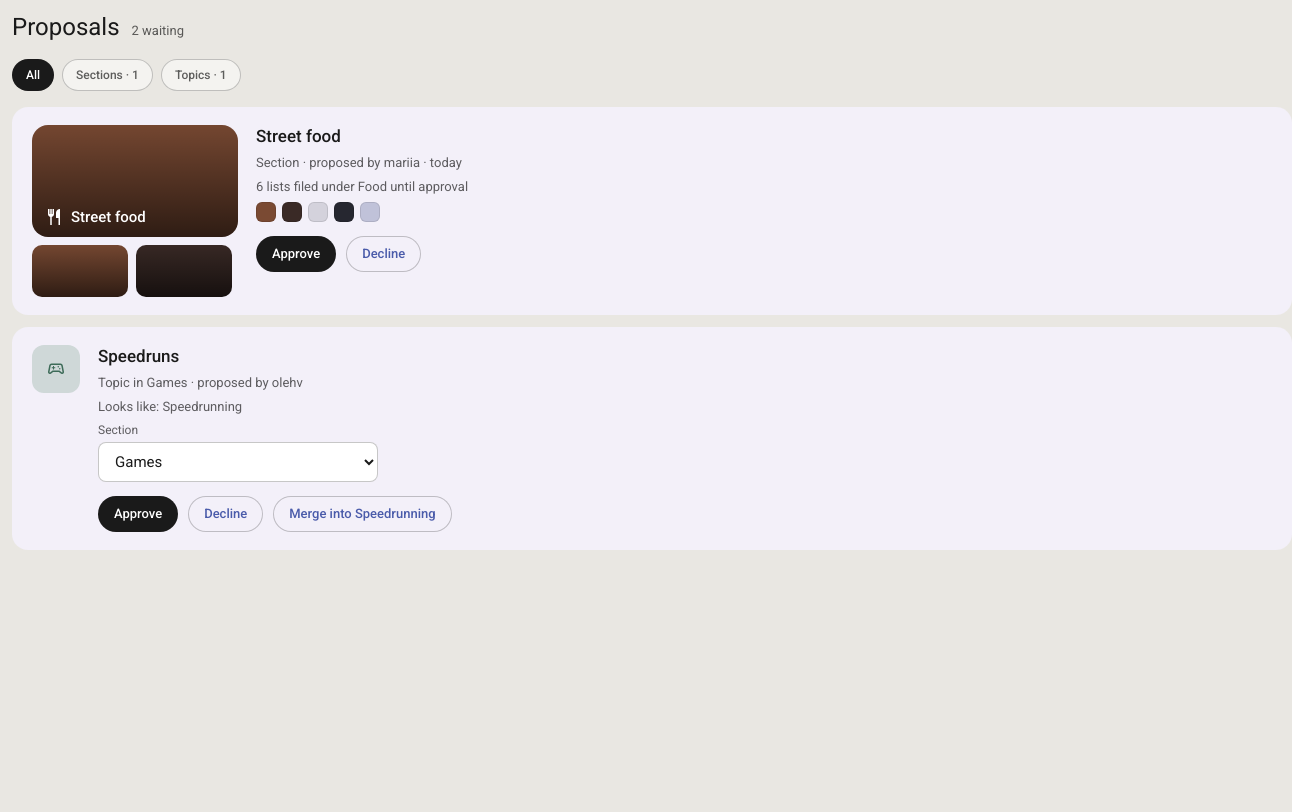
ProposalsPane › opens Approve as a panel, and approves as a section, renamed if asked
Click the button "Approve" below "6 lists filed under Food until approval".
click(296, 254)  # box [256,236,336,272]
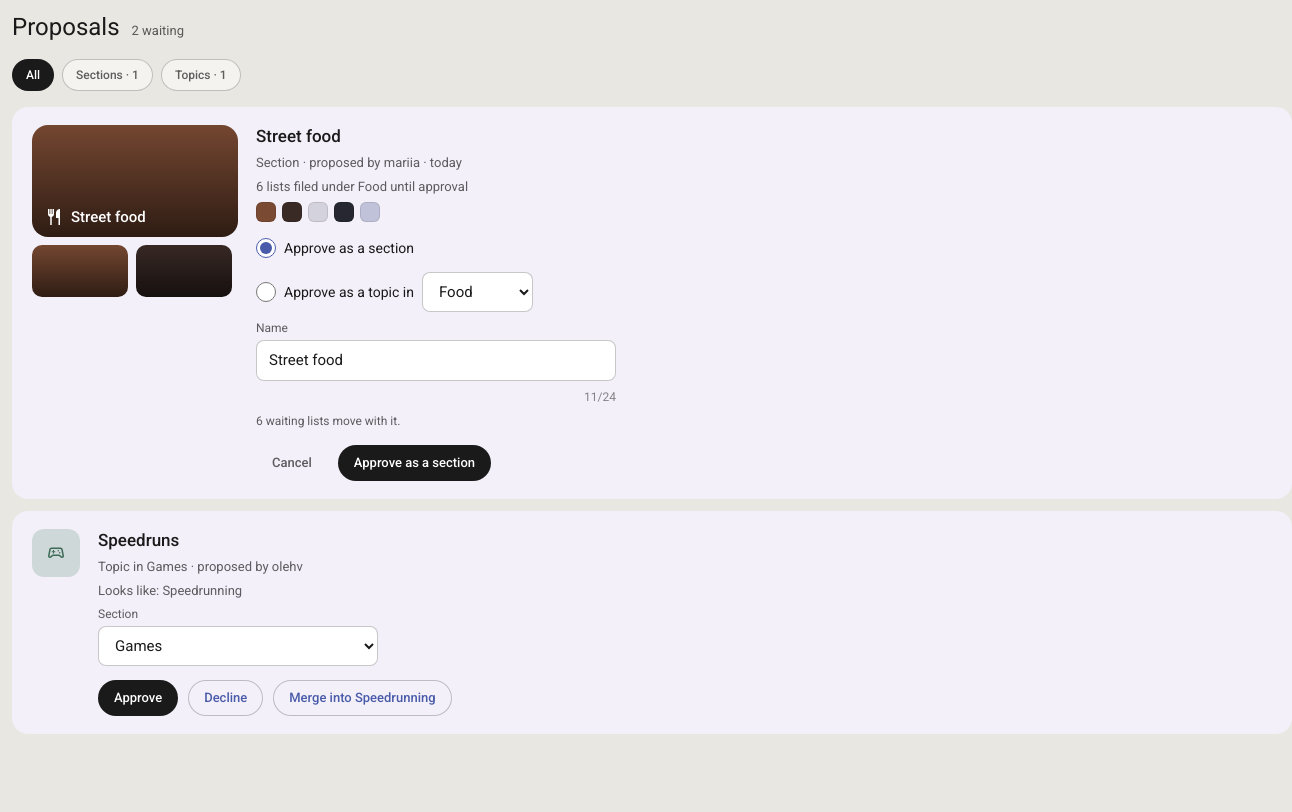
Expected: the radio button labelled "Approve as a section" is checked, [256,238,276,258]
Expected: the text "6 waiting lists move with it." is shown, [256,414,400,428]
Expected: the field labelled "Name" holds "Street food", [256,340,616,380]
Click the button "Cancel".
click(292, 462)  # box [256,444,328,480]
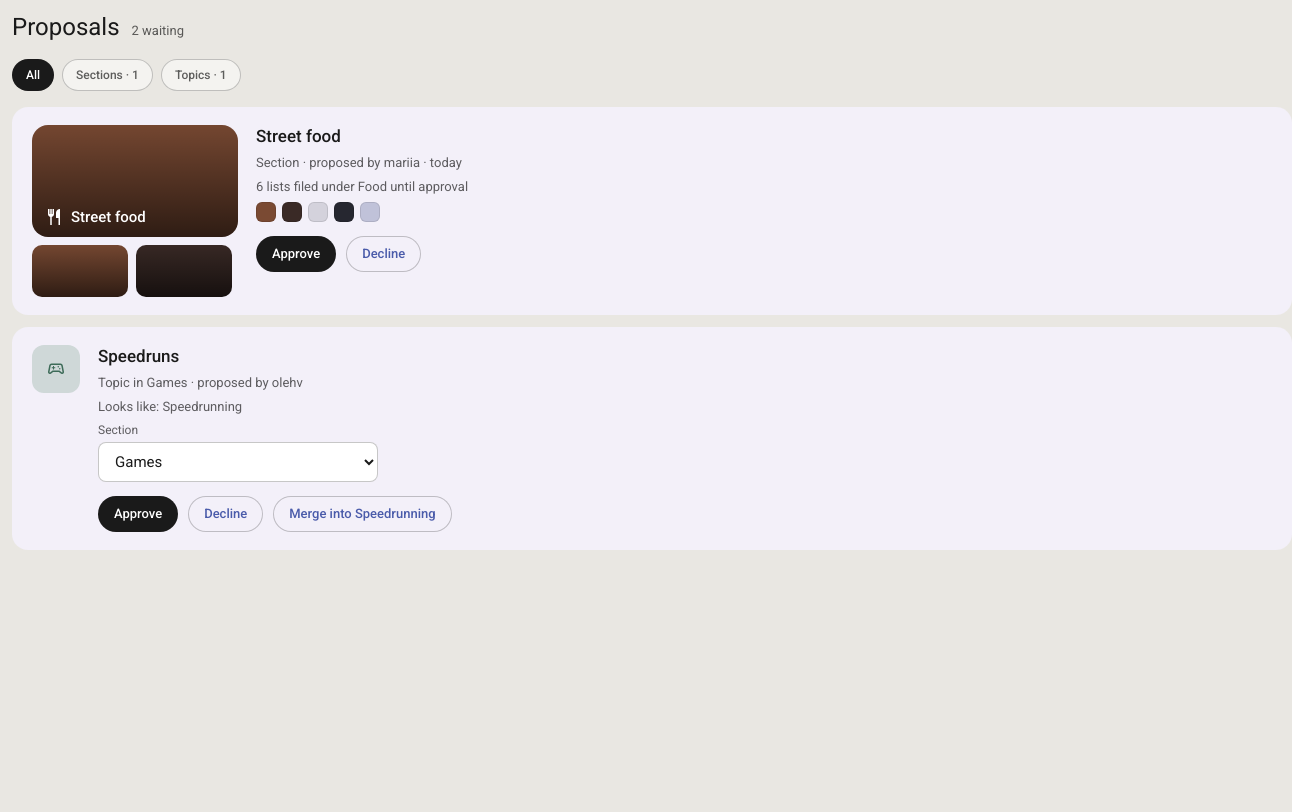
Click the button "Approve" below "6 lists filed under Food until approval".
click(296, 254)  # box [256,236,336,272]
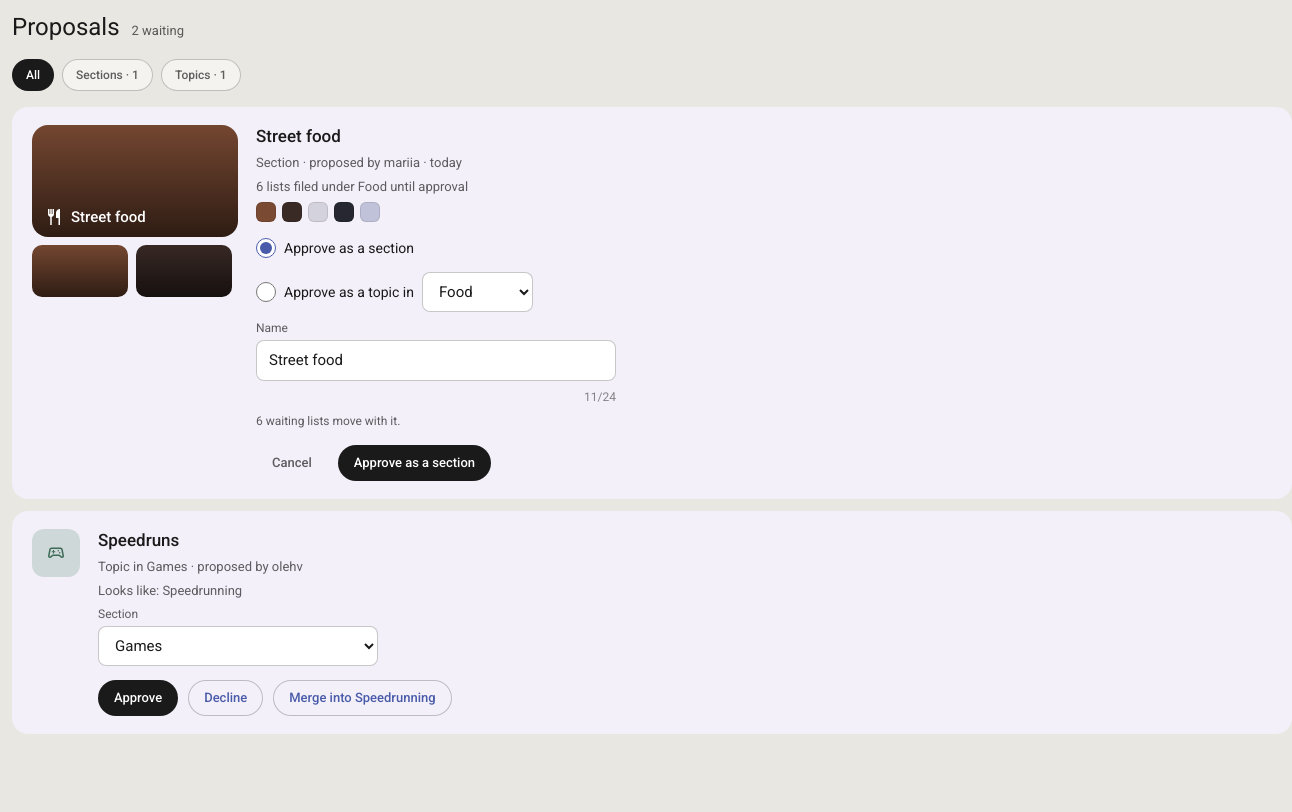
Replace the text in the field labelled "Name" with "Street eats" at (436, 360), box [256,340,616,380]
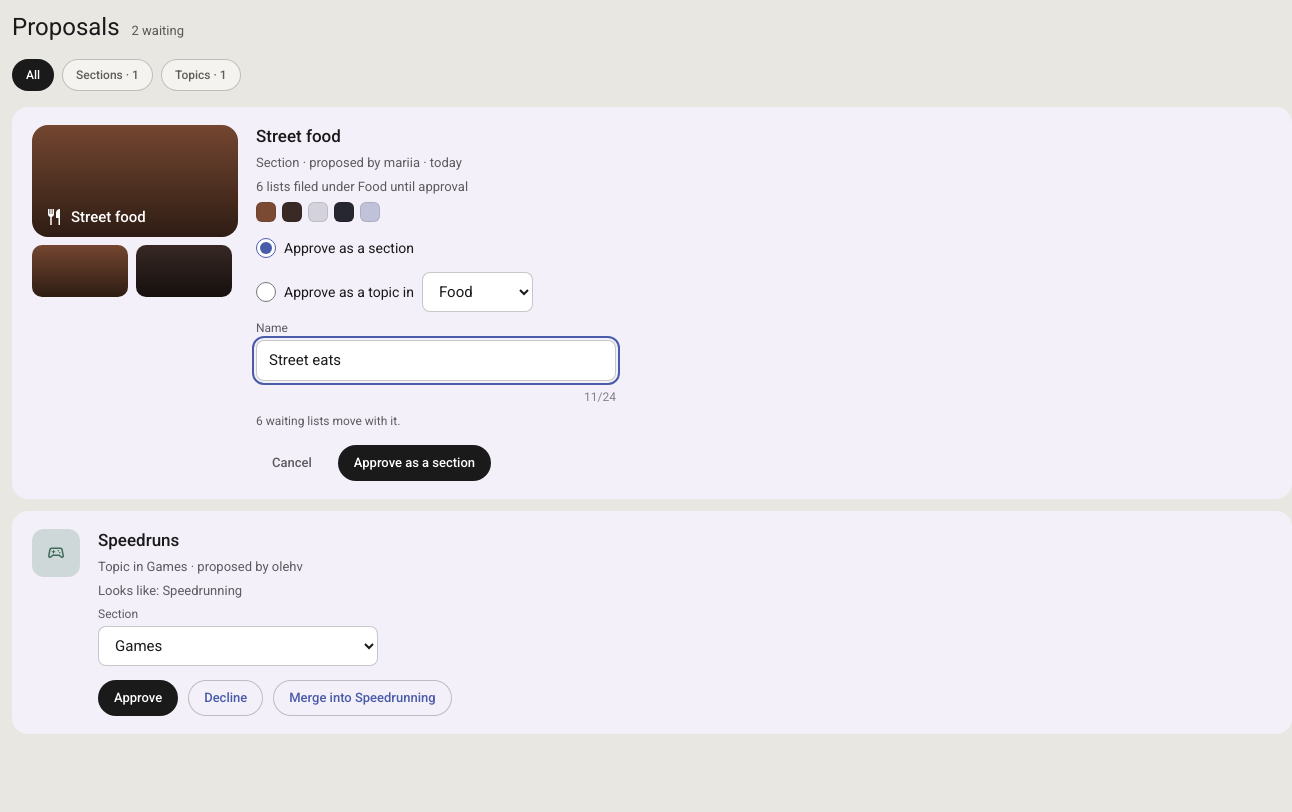
Click the button "Approve as a section".
click(414, 462)  # box [338,444,491,480]
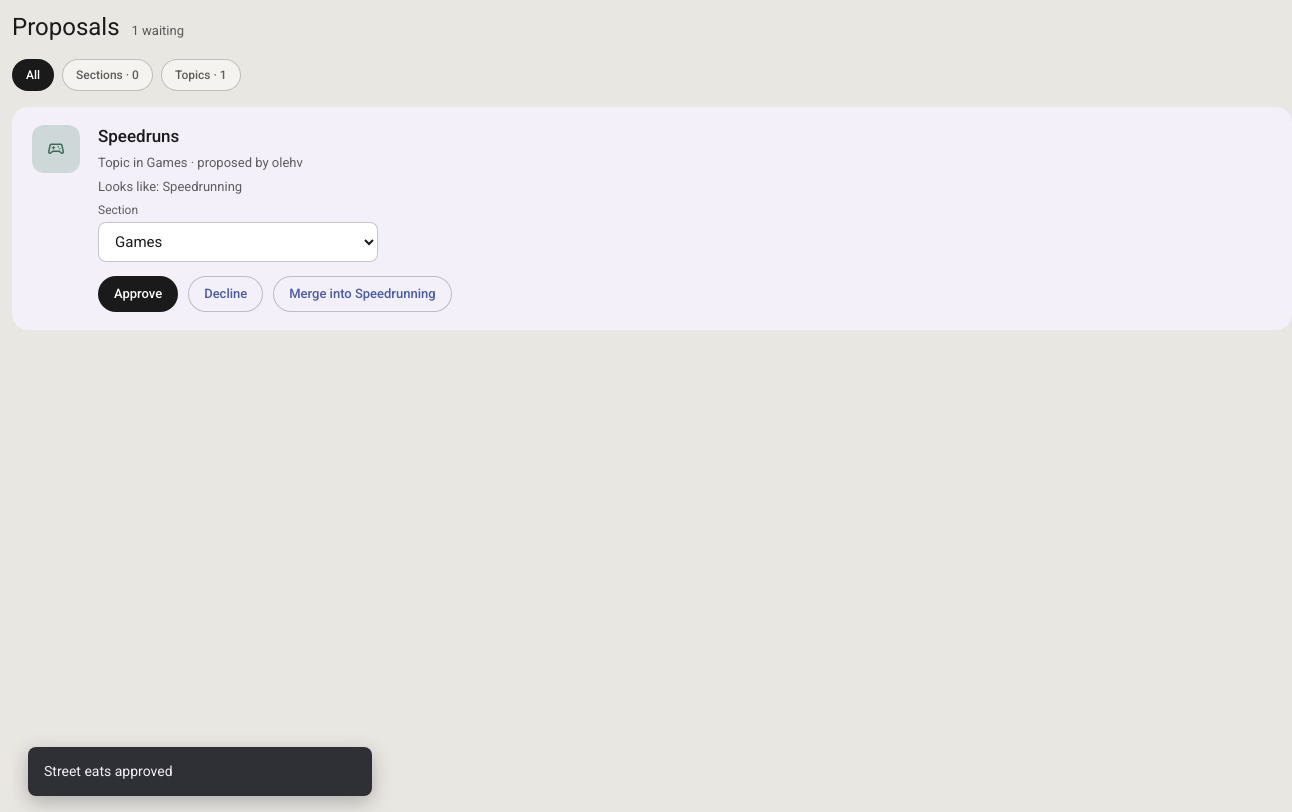
Expected: the text "Street eats approved" is shown, [44,761,173,782]
Expected: the heading "Street food" is gone
